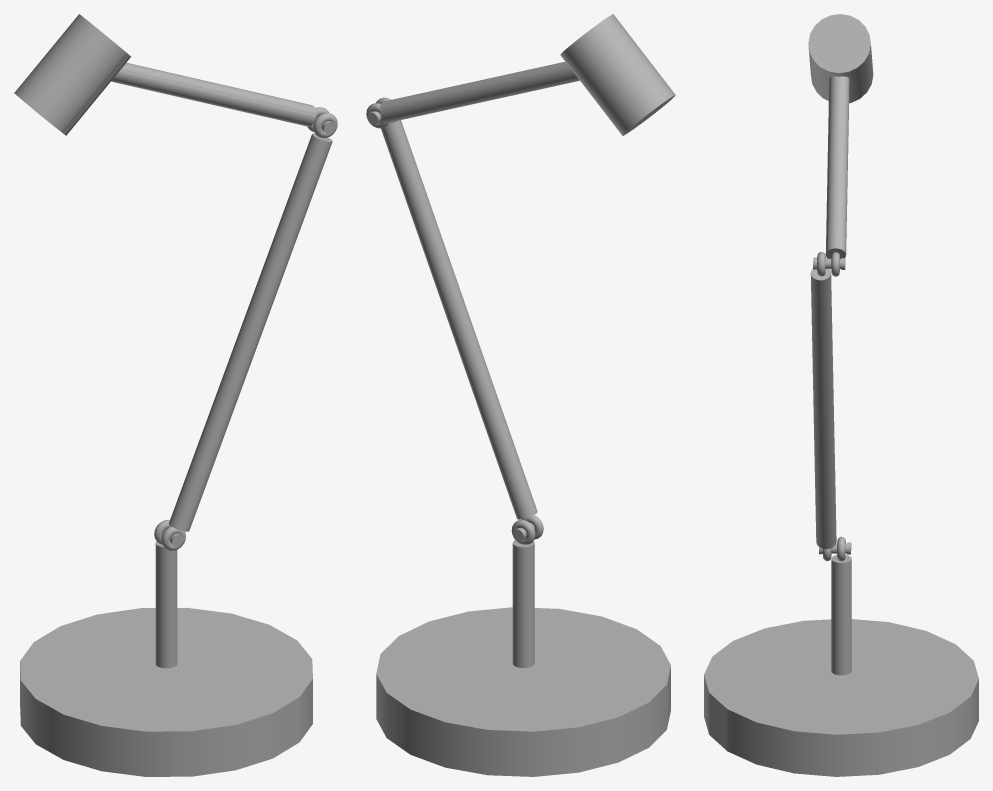
Rendered from EstructuraMetal.obj.
3 renders of one model, left to right at view 1: azimuth 30°, elevation 25°; view 2: azimuth 150°, elevation 25°; view 3: azimuth 270°, elevation 25°, orthographic. The views are drawn at different scales.
Parts seen in each view (by area): view 1: EstructuraMetal1:pCylinder18; view 2: EstructuraMetal1:pCylinder18; view 3: EstructuraMetal1:pCylinder18.
Boxes of the visible parts, <box> form: EstructuraMetal1:pCylinder18: <box>14,14,337,776</box>; EstructuraMetal1:pCylinder18: <box>366,14,675,776</box>; EstructuraMetal1:pCylinder18: <box>704,14,978,776</box>.
Bounding box in the file's own units: 1.8 × 4.03 × 1.5.
